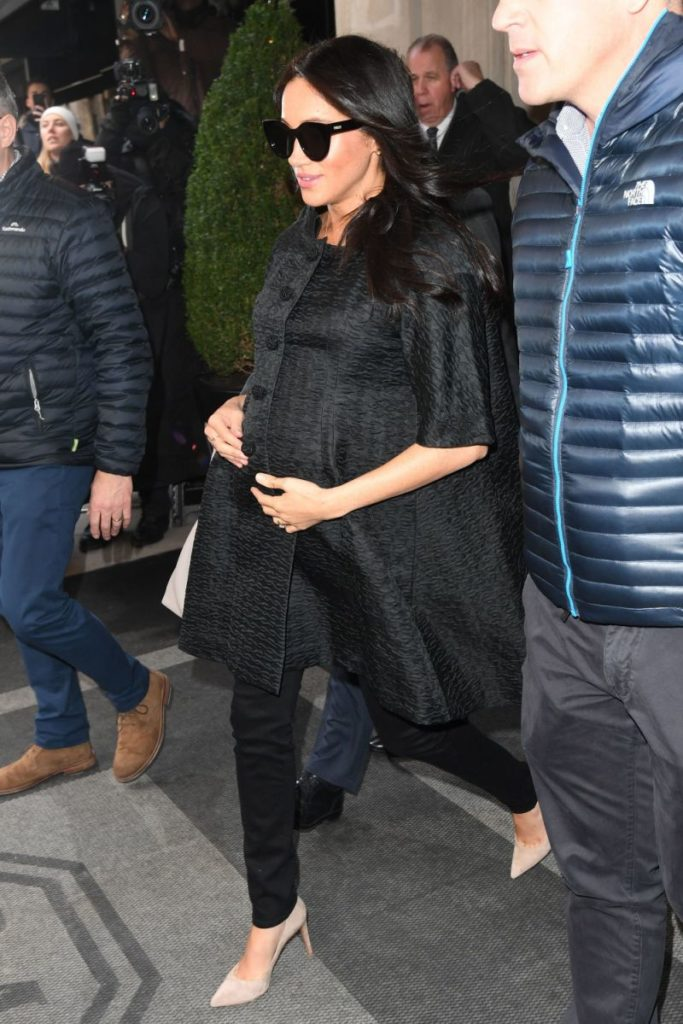sunglasses: (262, 116, 342, 162)
